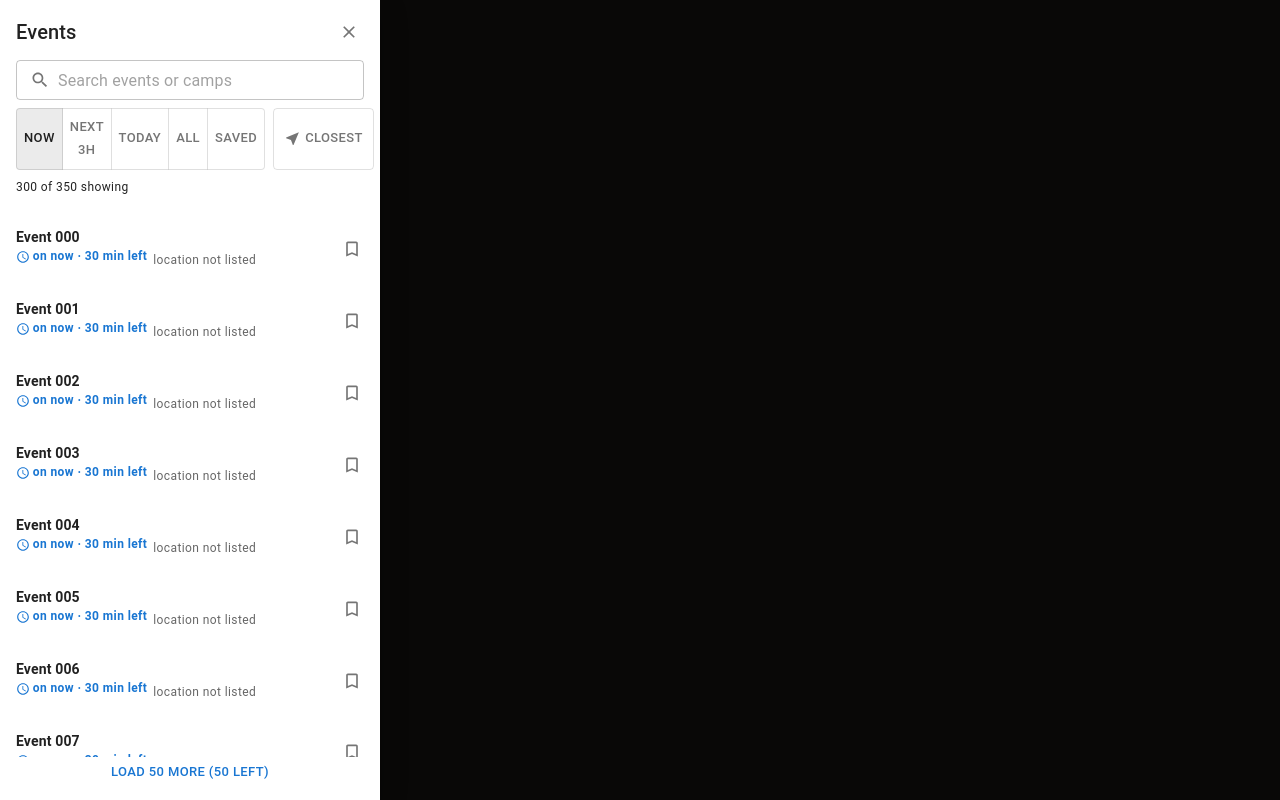
Scenario: EventsPanel · browsing past the initial page (#54) › makes every record past index 300 reachable by loading more
This screenshot has width=1280, height=800.
Click the button "Load 50 more (50 left)": (190, 773) [16, 757, 364, 788]
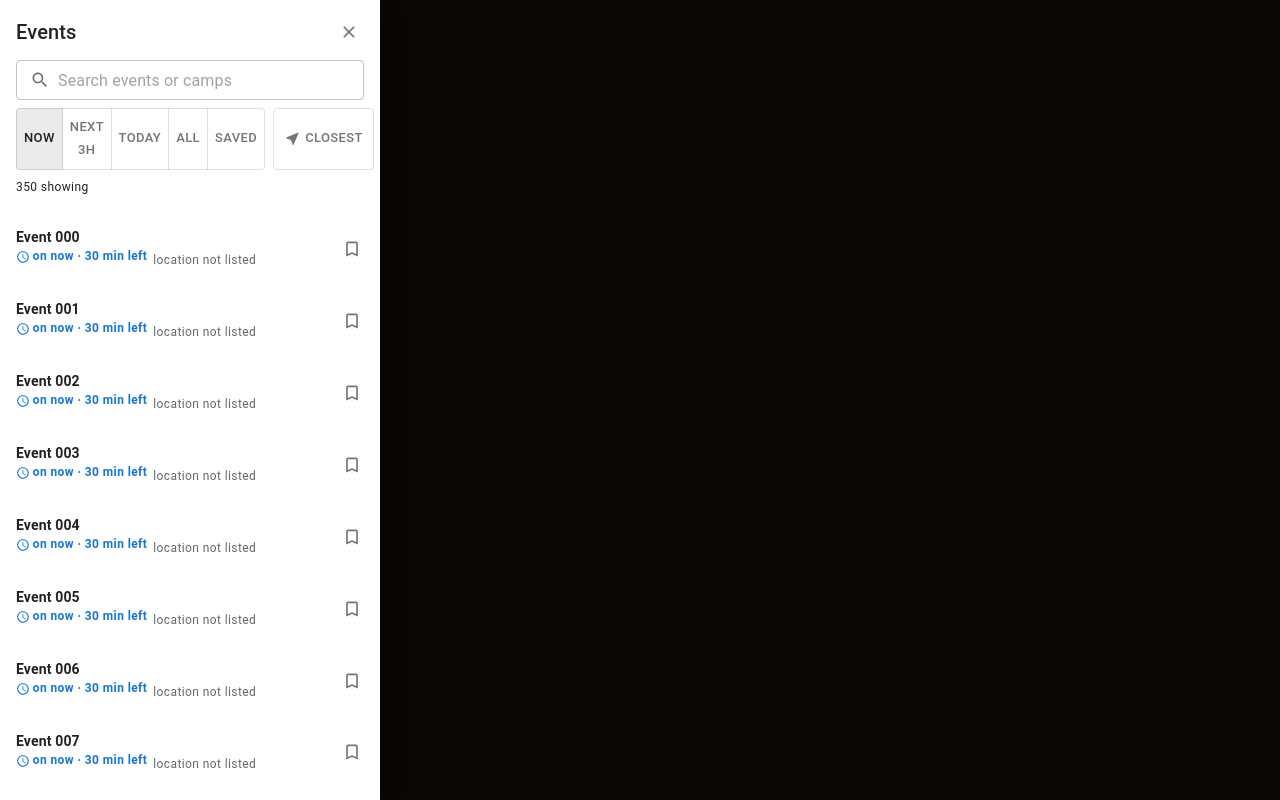
Expected: the text "350 showing" is shown, [16, 180, 89, 194]
Expected: the button "Load 50 more (50 left)" is gone
